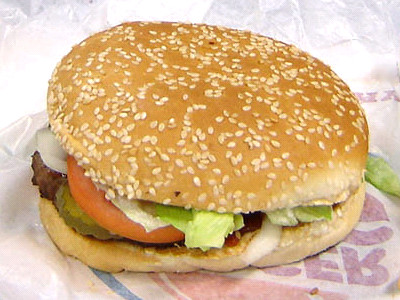hamburger_buns: (48, 25, 367, 208)
